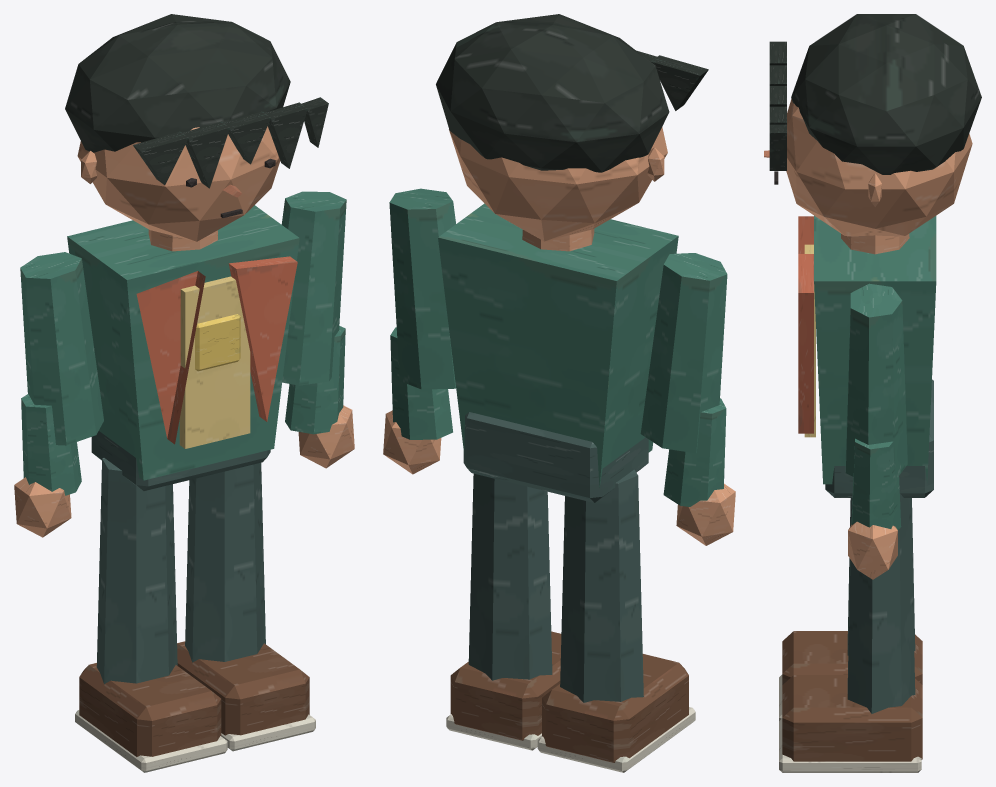
Rendered from host.glb.
3 renders of one model, left to right at view 1: azimuth 30°, elevation 25°; view 2: azimuth 150°, elevation 25°; view 3: azimuth 270°, elevation 25°, orthographic. The views are drawn at different scales.
Parts seen in each view (by area): view 1: GEO_Torso, GEO_Hair_Cap, GEO_PantsLeg_L, GEO_PantsLeg_R, GEO_UpperArm_L, GEO_Head, GEO_UpperArm_R, GEO_Shoe_L, GEO_Inner_Shirt, GEO_Shoe_R, GEO_Jacket_Lapel_R, GEO_Jacket_Lapel_L (+14 smaller); view 2: GEO_Torso, GEO_Hair_Cap, GEO_PantsLeg_L, GEO_PantsLeg_R, GEO_UpperArm_L, GEO_Head, GEO_UpperArm_R, GEO_Waist, GEO_Shoe_L, GEO_Shoe_R, GEO_Forearm_L, GEO_Forearm_R (+6 smaller); view 3: GEO_Hair_Cap, GEO_Torso, GEO_Head, GEO_Shoe_R, GEO_PantsLeg_R, GEO_UpperArm_R, GEO_Forearm_R, GEO_Shoe_L, GEO_Jacket_Lapel_R, GEO_Hand_R, GEO_Waist, GEO_Sole_R (+6 smaller).
Part boxes in pixels (box(x1,y1,x2,y2)): GEO_Torso: box(67, 205, 299, 480); GEO_Hair_Cap: box(65, 14, 290, 152); GEO_PantsLeg_L: box(96, 458, 177, 683); GEO_PantsLeg_R: box(185, 462, 265, 662); GEO_UpperArm_L: box(20, 252, 103, 445); GEO_Head: box(77, 126, 280, 241); GEO_UpperArm_R: box(281, 191, 346, 385); GEO_Shoe_L: box(79, 663, 221, 756); GEO_Inner_Shirt: box(179, 276, 250, 448); GEO_Shoe_R: box(177, 641, 309, 735); GEO_Jacket_Lapel_R: box(228, 256, 297, 421); GEO_Jacket_Lapel_L: box(136, 271, 205, 444); GEO_Torso: box(438, 203, 678, 487); GEO_Hair_Cap: box(436, 14, 669, 172); GEO_PantsLeg_L: box(560, 469, 643, 702); GEO_PantsLeg_R: box(468, 473, 552, 680); GEO_UpperArm_L: box(640, 253, 727, 453); GEO_Head: box(449, 127, 667, 241); GEO_UpperArm_R: box(389, 188, 455, 389); GEO_Waist: box(463, 412, 648, 502); GEO_Shoe_L: box(542, 654, 688, 762); GEO_Shoe_R: box(450, 631, 561, 740); GEO_Forearm_L: box(663, 398, 726, 506); GEO_Forearm_R: box(390, 327, 452, 439); GEO_Hair_Cap: box(791, 14, 981, 174); GEO_Torso: box(814, 215, 936, 484); GEO_Head: box(786, 99, 972, 236); GEO_Shoe_R: box(782, 675, 922, 761); GEO_PantsLeg_R: box(847, 489, 915, 713); GEO_UpperArm_R: box(845, 283, 907, 480); GEO_Forearm_R: box(851, 438, 901, 530); GEO_Shoe_L: box(782, 631, 922, 684); GEO_Jacket_Lapel_R: box(798, 254, 813, 433); GEO_Hand_R: box(848, 521, 897, 579); GEO_Waist: box(825, 379, 933, 497); GEO_Sole_R: box(779, 719, 921, 772).
Size of the model in its own units: 0.874 by 1.72 by 0.4811.
1 material, 1 textured.
